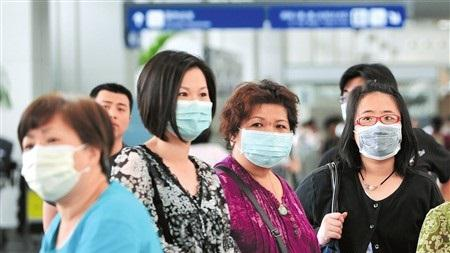NONE: (98, 97, 131, 137)
OK: (18, 128, 91, 201), (168, 83, 226, 141), (242, 111, 299, 168), (359, 106, 408, 155)
